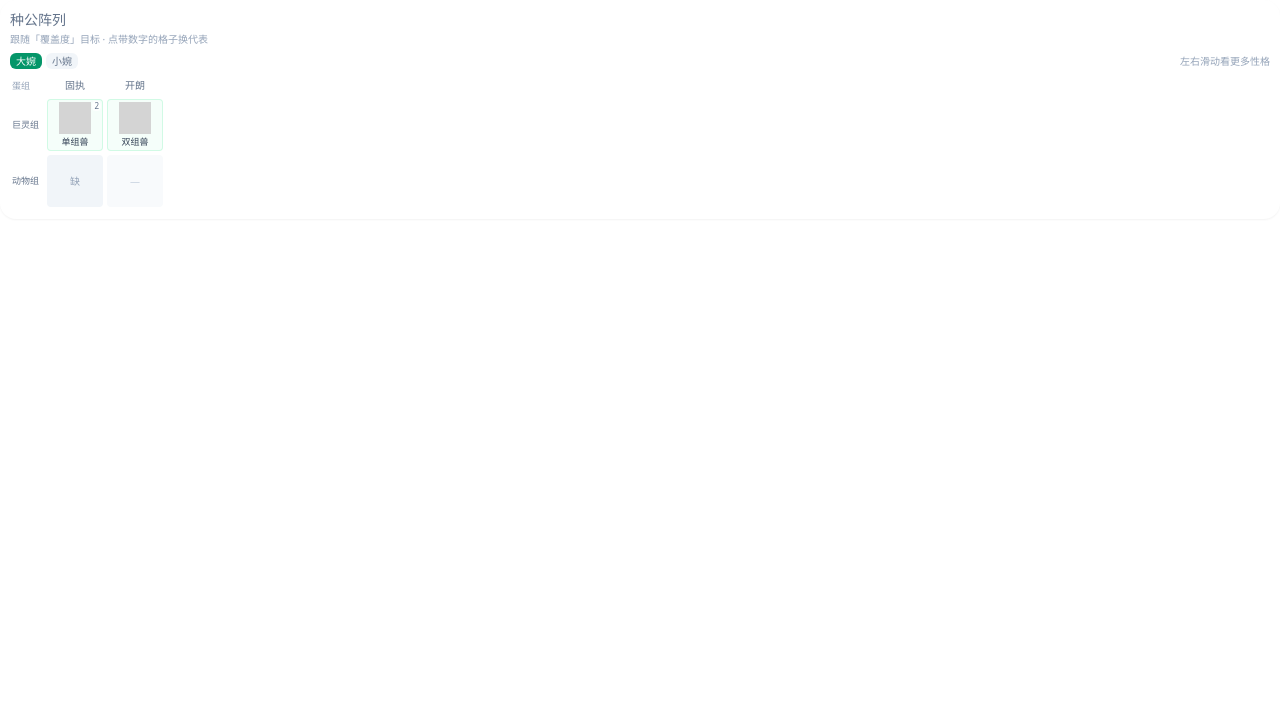
StudMatrix › 同格多只种公显示小数字，点开可换代表并记住
Expected: the text with test id "stud-cell-count-2-固执" reads "2", [94,100,99,111]
Expected: the text "单组兽" is shown, [62,135,88,148]
Click the button with test id "stud-cell-2-固执" at (75, 125), box [47,99,103,151]
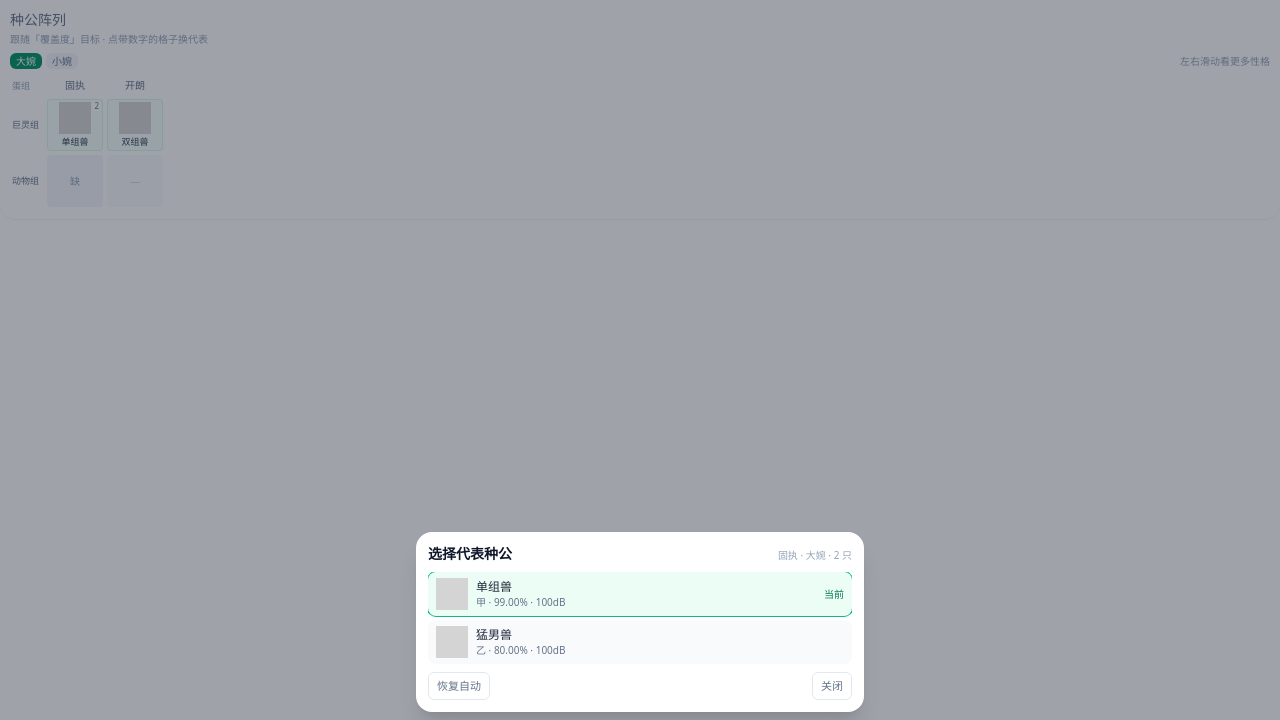
Now the heading "选择代表种公" is shown, box [428,544,512,564]
Click the text "猛男兽" at (494, 634), box [476,626,512,642]
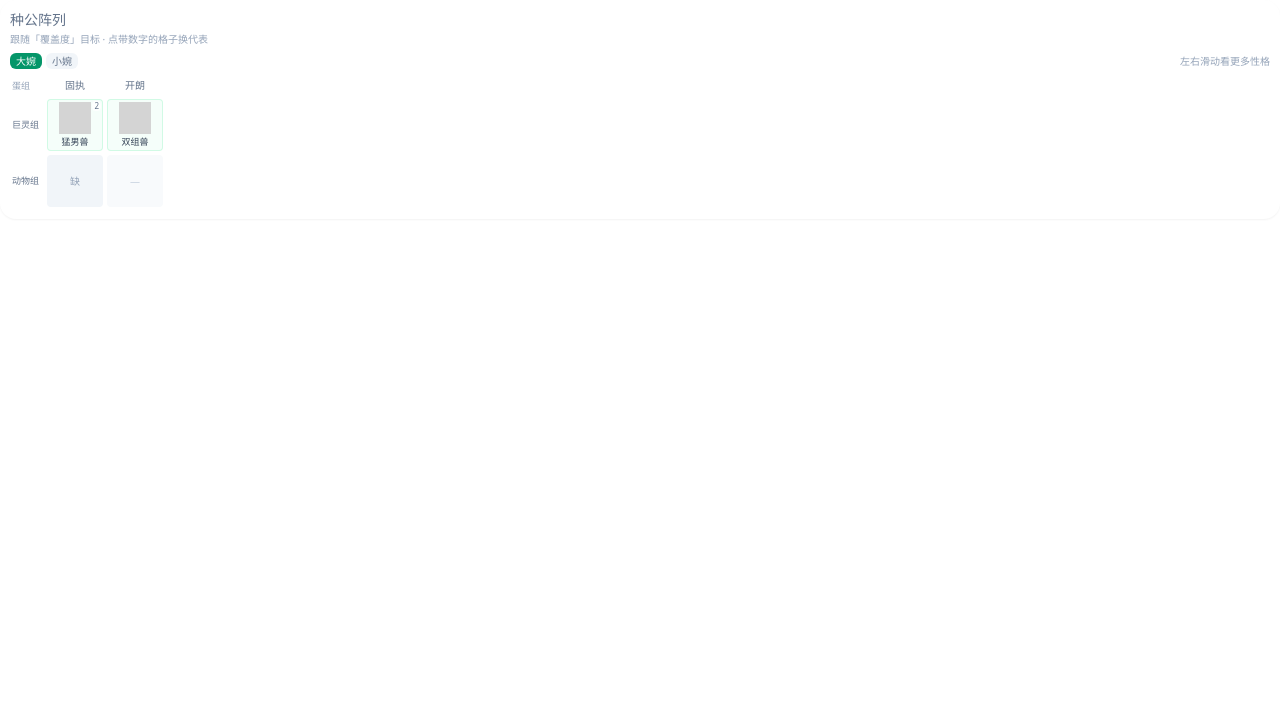
Now the text "猛男兽" is shown, box [62,135,88,148]
再打开 → 恢复自动 → 回到排序第一
Click the button with test id "stud-cell-2-固执" at (75, 125), box [47,99,103,151]
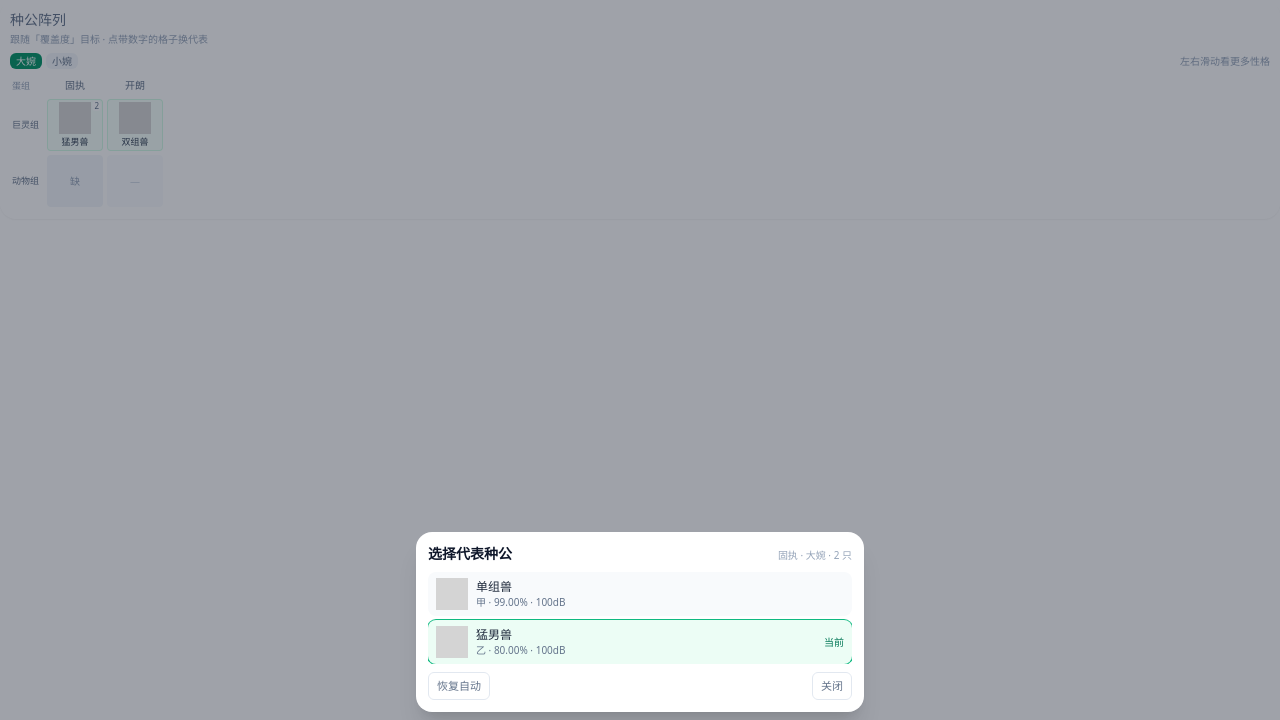
Click the button with test id "stud-picker-auto" at (459, 686), box [428,672,490,700]
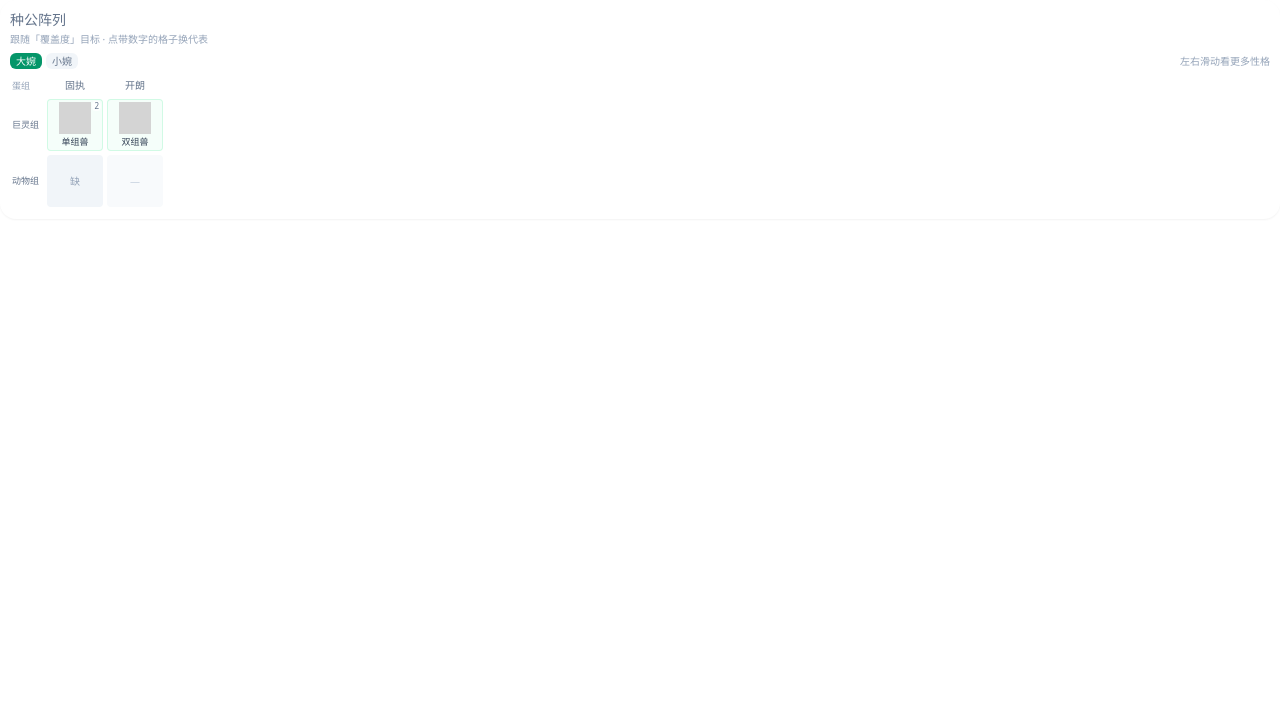
Now the text "单组兽" is shown, box [62,135,88,148]
